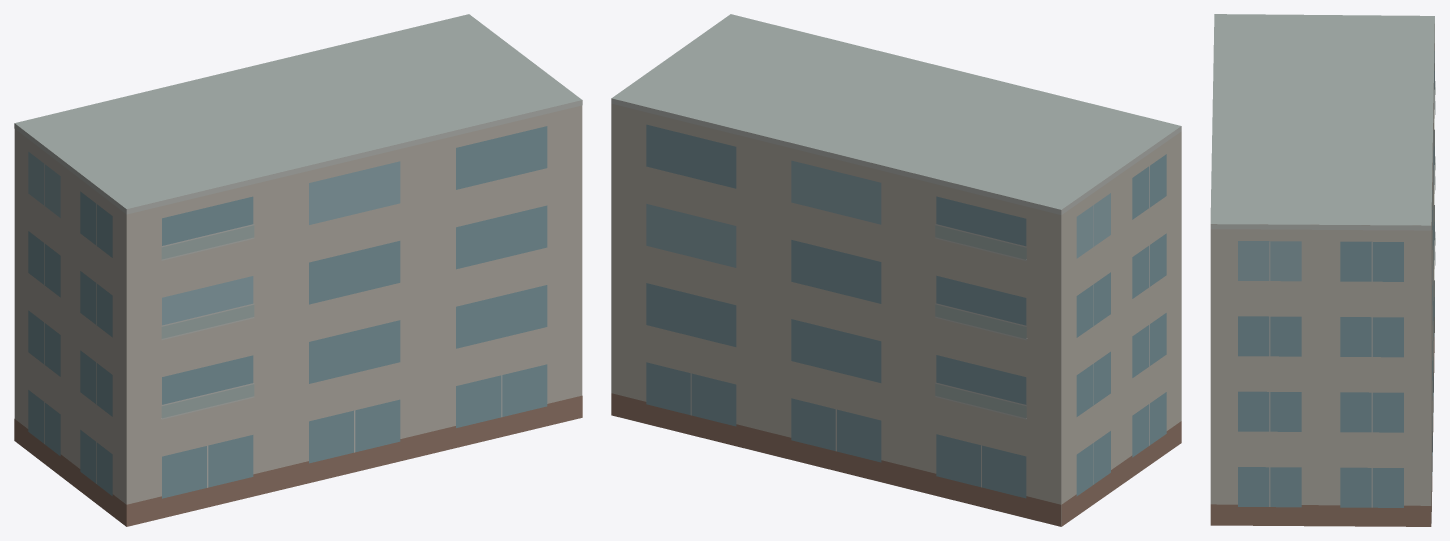
File: survey-upis-32654046.glb
3 views of the same model, side by side, from view 1: azimuth 30°, elevation 25°; view 2: azimuth 150°, elevation 25°; view 3: azimuth 270°, elevation 25° (orthographic). The views are drawn at different scales.
Visible parts, largest first — view 1: survey-upis-32654046.tmp; view 2: survey-upis-32654046.tmp; view 3: survey-upis-32654046.tmp.
Boxes of the visible parts, bbox=[...] form: survey-upis-32654046.tmp: bbox=[14, 14, 582, 526]; survey-upis-32654046.tmp: bbox=[611, 14, 1181, 526]; survey-upis-32654046.tmp: bbox=[1210, 14, 1435, 526].
Bounding box in the file's own units: 21.84 × 14.5 × 9.82.
